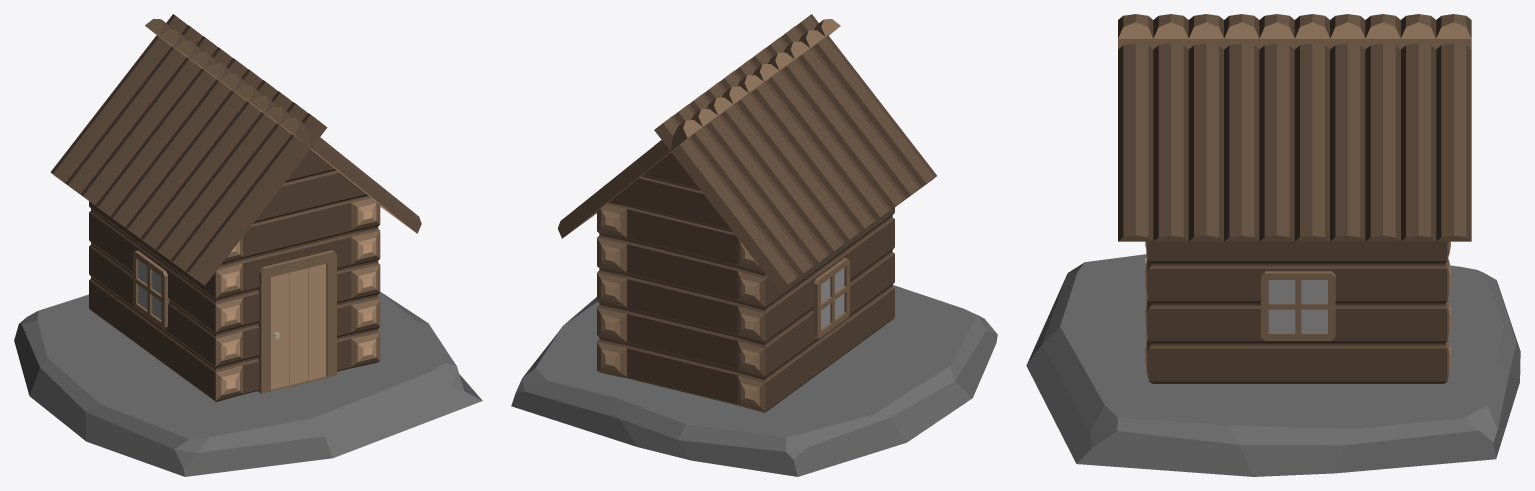
The model's file is Cabin.fbx.
3 views of the same model, side by side, from view 1: azimuth 30°, elevation 25°; view 2: azimuth 150°, elevation 25°; view 3: azimuth 270°, elevation 25° (orthographic). The views are drawn at different scales.
Parts seen in each view (by area): view 1: Foundation, Roof, Cabin, Door; view 2: Cabin, Roof, Foundation; view 3: Roof, Foundation, Cabin.
Boxes of the visible parts, left/top/right/bottom form: Foundation: left=14, top=292, right=482, bottom=476; Roof: left=50, top=14, right=421, bottom=285; Cabin: left=89, top=149, right=380, bottom=401; Door: left=271, top=264, right=326, bottom=389; Cabin: left=597, top=152, right=894, bottom=412; Roof: left=557, top=14, right=936, bottom=291; Foundation: left=511, top=285, right=997, bottom=476; Roof: left=1118, top=14, right=1471, bottom=241; Foundation: left=1026, top=254, right=1520, bottom=476; Cabin: left=1145, top=241, right=1450, bottom=383.
Bounding box in the file's own units: 6.59 × 5.29 × 6.63.
